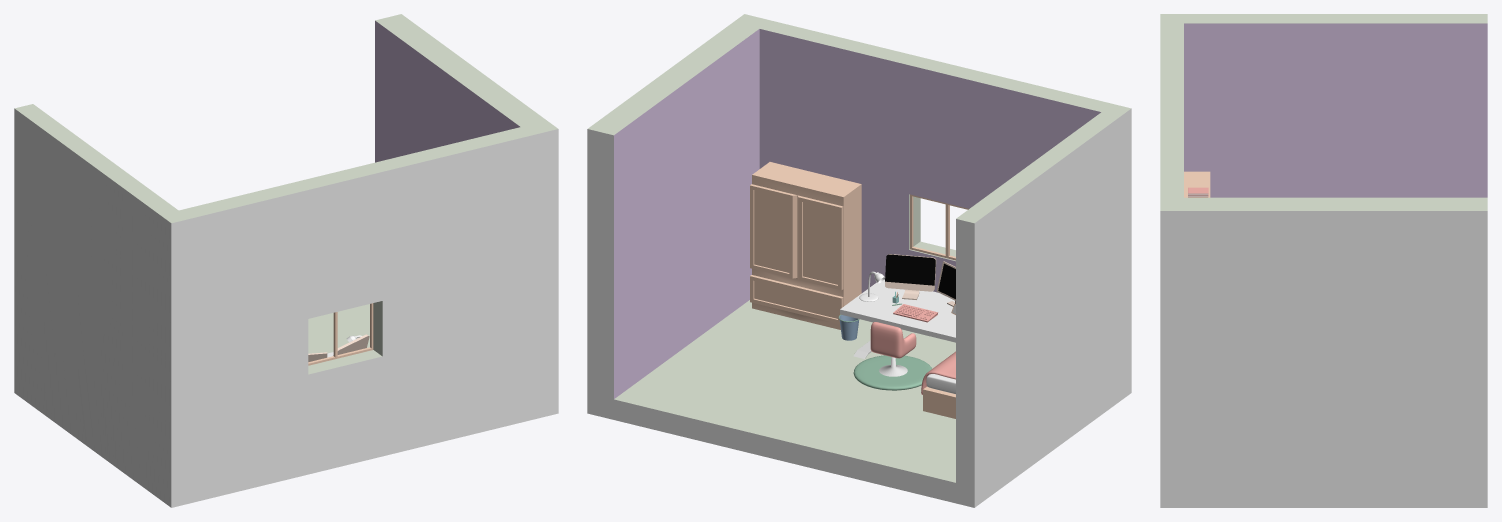
File: Study_Room_16.glb
The picture shows the model from 3 angles, left to right: view 1: azimuth 30°, elevation 25°; view 2: azimuth 150°, elevation 25°; view 3: azimuth 270°, elevation 25°; orthographic projection. The views are drawn at different scales.
Parts seen in each view (by area): view 1: Room, Window Frame; view 2: Room, Closet, Table Top, Rug, Desktop Screen, Chair, Bedframe, Window Frame; view 3: Room, Shelf.001.
Boxes of the visible parts, x1=… form: Room: x1=14, y1=14, x2=558, y2=507; Window Frame: x1=308, y1=303, x2=373, y2=365; Room: x1=587, y1=14, x2=1131, y2=507; Closet: x1=750, y1=162, x2=861, y2=329; Table Top: x1=840, y1=279, x2=955, y2=342; Rug: x1=853, y1=355, x2=931, y2=390; Desktop Screen: x1=885, y1=254, x2=935, y2=285; Chair: x1=870, y1=322, x2=916, y2=358; Bedframe: x1=923, y1=386, x2=955, y2=418; Window Frame: x1=910, y1=194, x2=968, y2=260; Room: x1=1160, y1=14, x2=1487, y2=507; Shelf.001: x1=1184, y1=171, x2=1210, y2=197.
Size of the model in its own units: 27.72 by 19.48 by 19.48.
